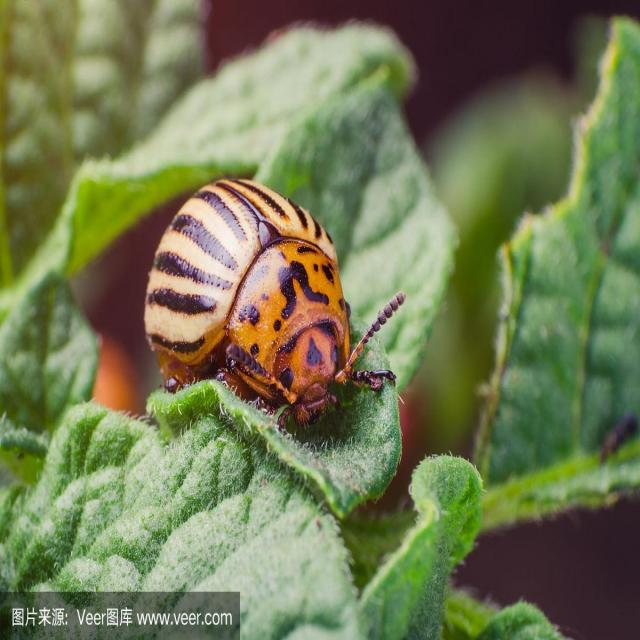ShuCaiHuaBanChong-Grown-: (155, 175, 365, 418)
